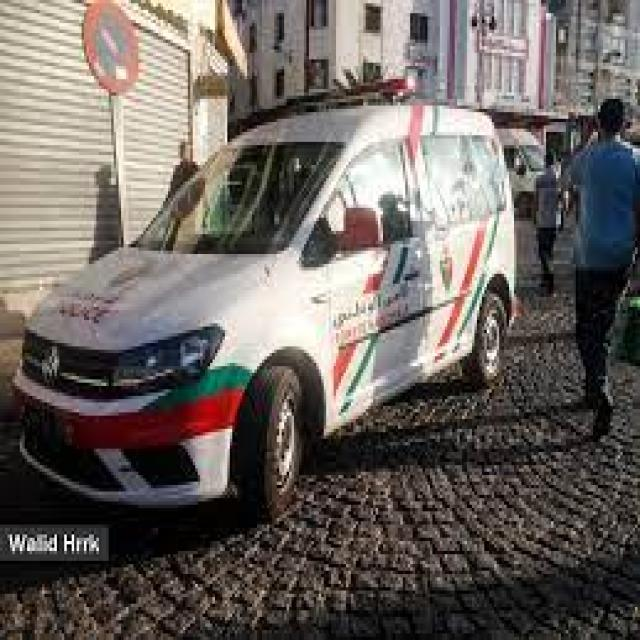Police car: (14, 66, 522, 538)
